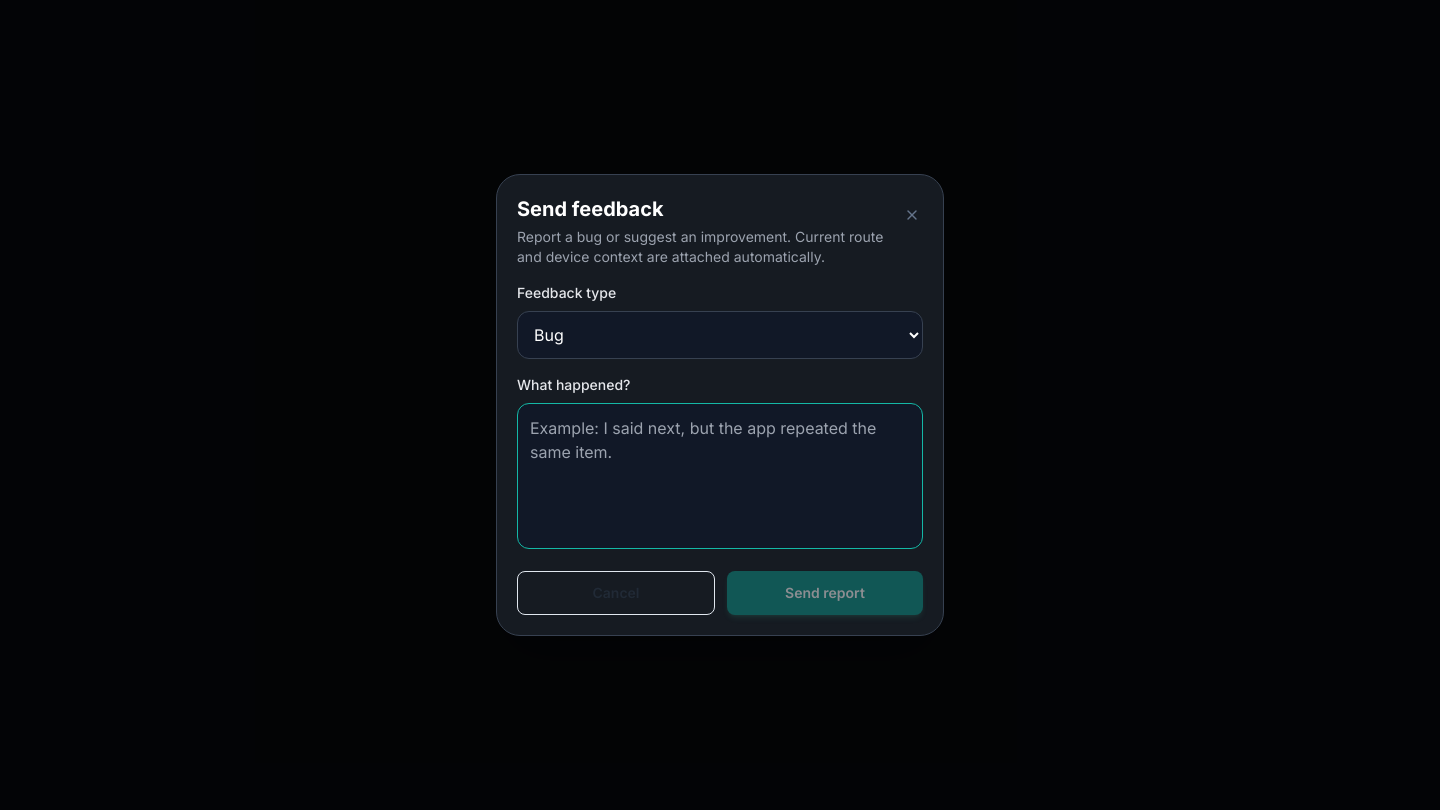
Test: queues an offline report without changing route progress
Type "The connection stopped." into the text box labelled "What happened?" at (720, 476), box [517,403,923,549]
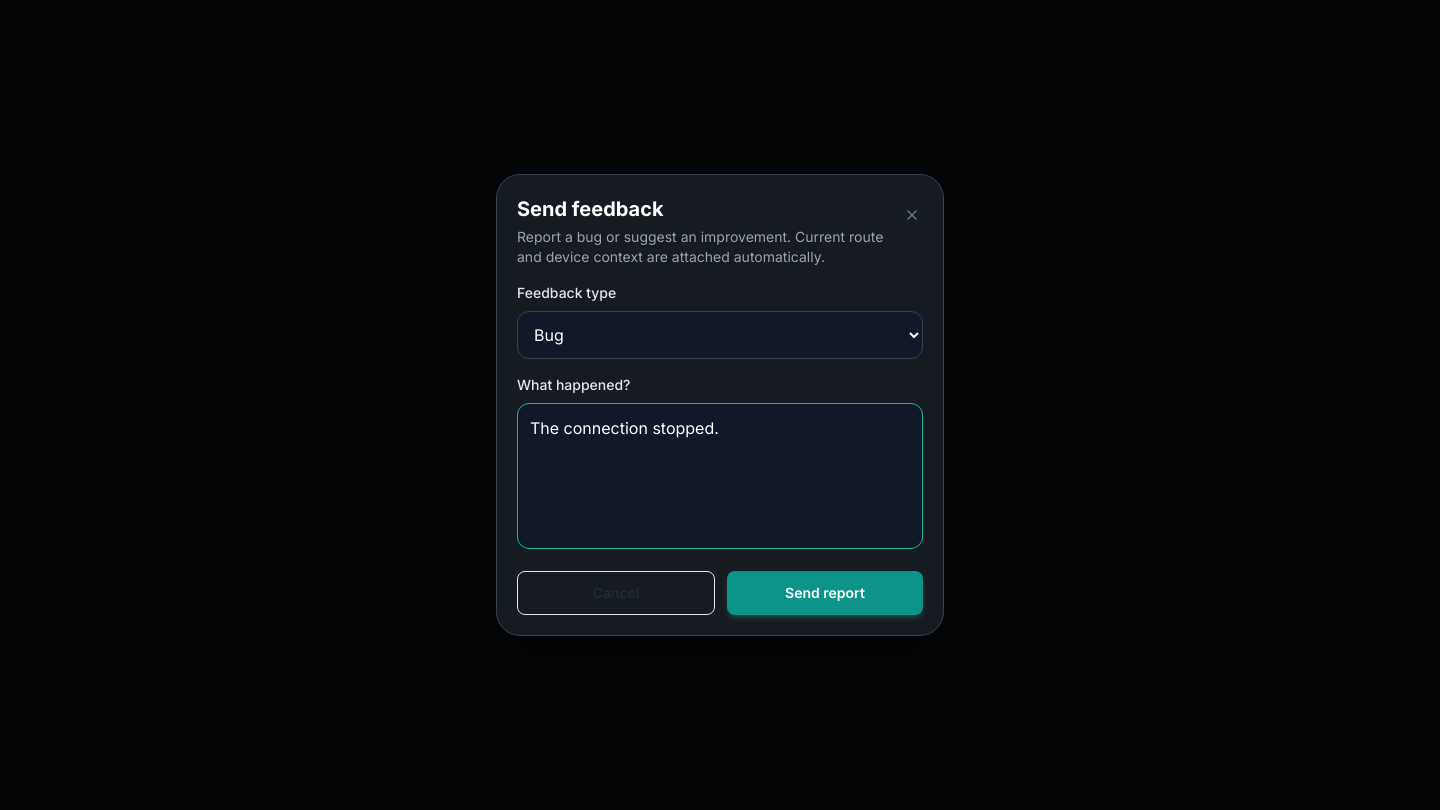
Click the button "Send report" at (825, 593), box [727,571,923,615]
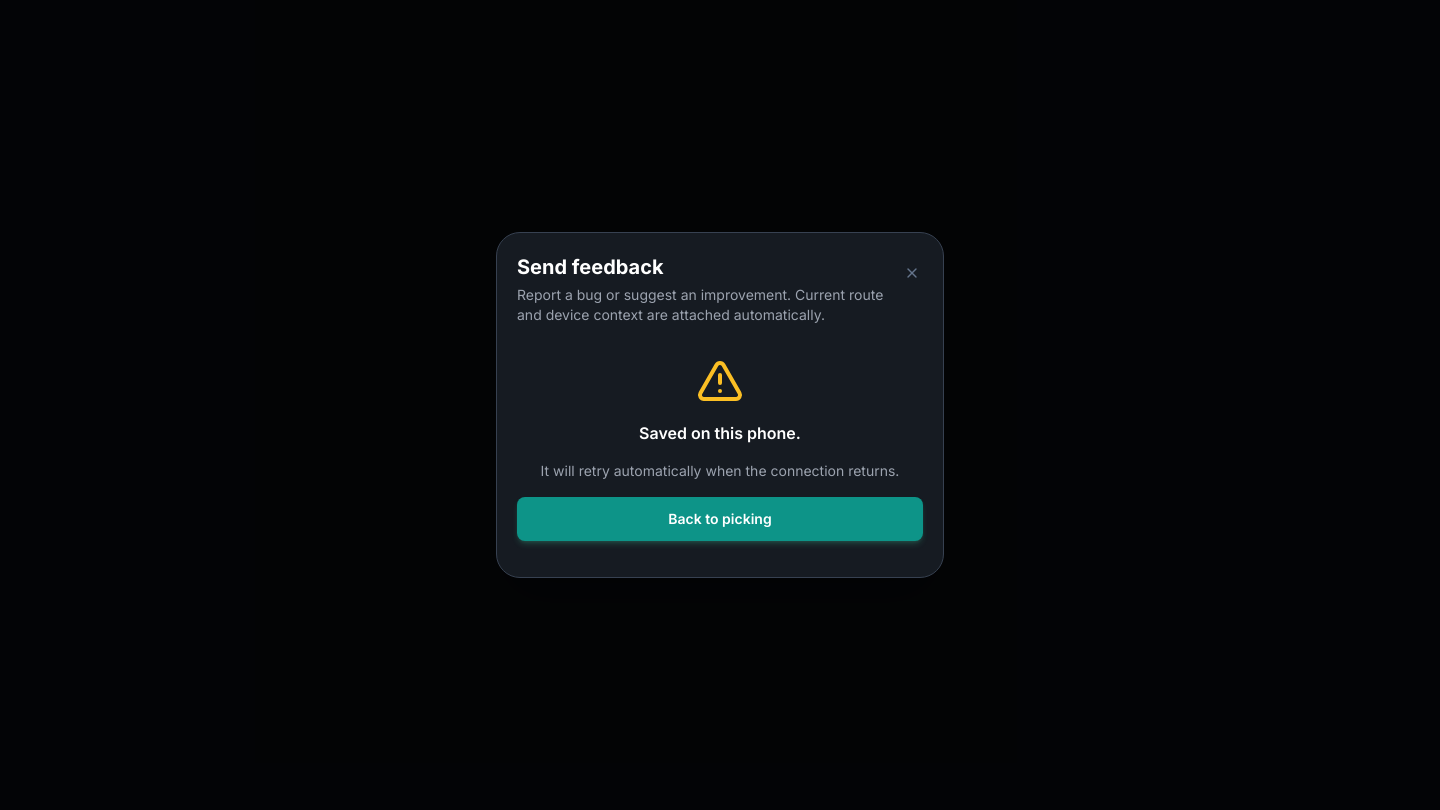
Result: the text "Saved on this phone." is shown at [639,423,801,443]
